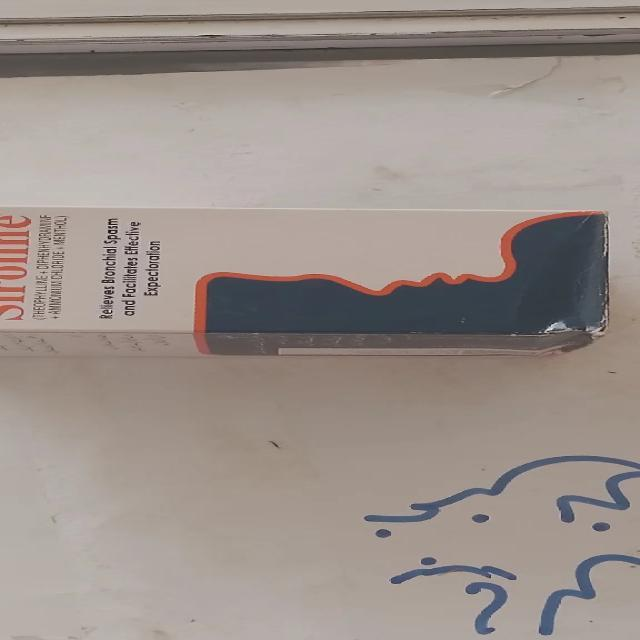drug-name: (0, 212, 32, 322)
